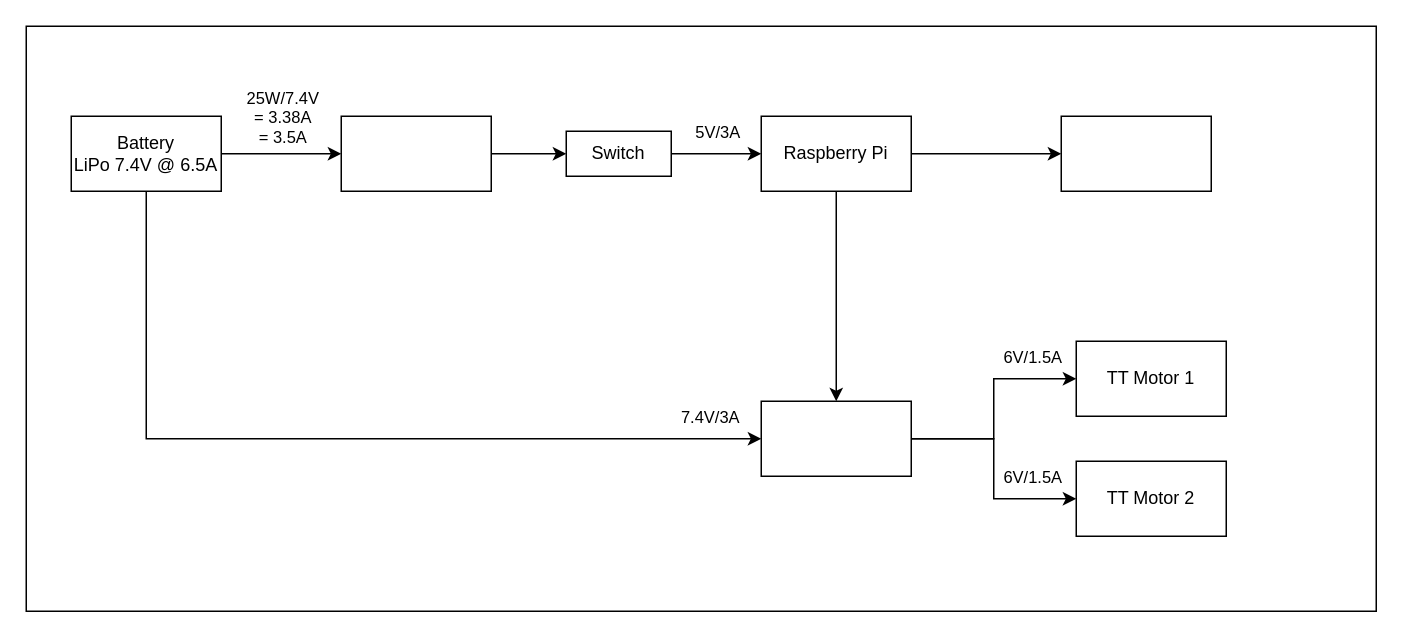
Some shapes in this 1403 by 638 pixel diagram are drawn without their labels. The shapes that lost their labels are listed below. From the top down, each one's centre as x and y in pixels, then its label:
(x=415, y=153): Regulator 5V x 5A = 25W
(x=1135, y=153): Sensor(s)
(x=835, y=438): L298N
